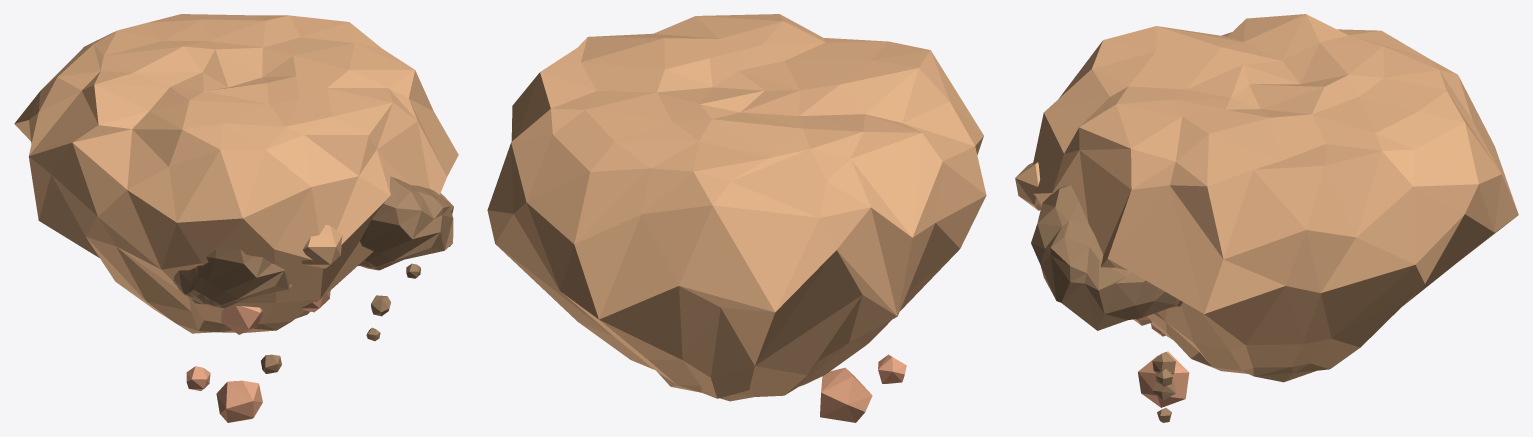
File: island.glb
The picture shows the model from 3 angles, left to right: view 1: azimuth 30°, elevation 25°; view 2: azimuth 150°, elevation 25°; view 3: azimuth 270°, elevation 25°; orthographic projection. The views are drawn at different scales.
Parts seen in each view (by area): view 1: Icosphere.004, Icosphere.006, Icosphere.005, Icosphere.012, Icosphere.009, Icosphere.011, Icosphere.013; view 2: Icosphere.004, Icosphere.012, Icosphere.013; view 3: Icosphere.004, Icosphere.006, Icosphere.012, Icosphere.009.
Part boxes in pixels (bbox=[...]): Icosphere.004: bbox=[14, 14, 458, 333]; Icosphere.006: bbox=[358, 176, 453, 270]; Icosphere.005: bbox=[173, 249, 292, 308]; Icosphere.012: bbox=[216, 380, 262, 422]; Icosphere.009: bbox=[301, 225, 342, 268]; Icosphere.011: bbox=[221, 306, 262, 334]; Icosphere.013: bbox=[186, 366, 210, 390]; Icosphere.004: bbox=[487, 14, 986, 401]; Icosphere.012: bbox=[820, 367, 872, 422]; Icosphere.013: bbox=[878, 354, 906, 383]; Icosphere.004: bbox=[1033, 14, 1518, 382]; Icosphere.006: bbox=[1031, 185, 1182, 330]; Icosphere.012: bbox=[1138, 351, 1189, 407]; Icosphere.009: bbox=[1015, 162, 1040, 210].
Size of the model in its own units: 8.58 by 6.81 by 9.05.
